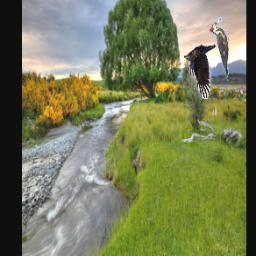Crow: (184, 43, 217, 99)
Woodpecker: (210, 17, 230, 83)
